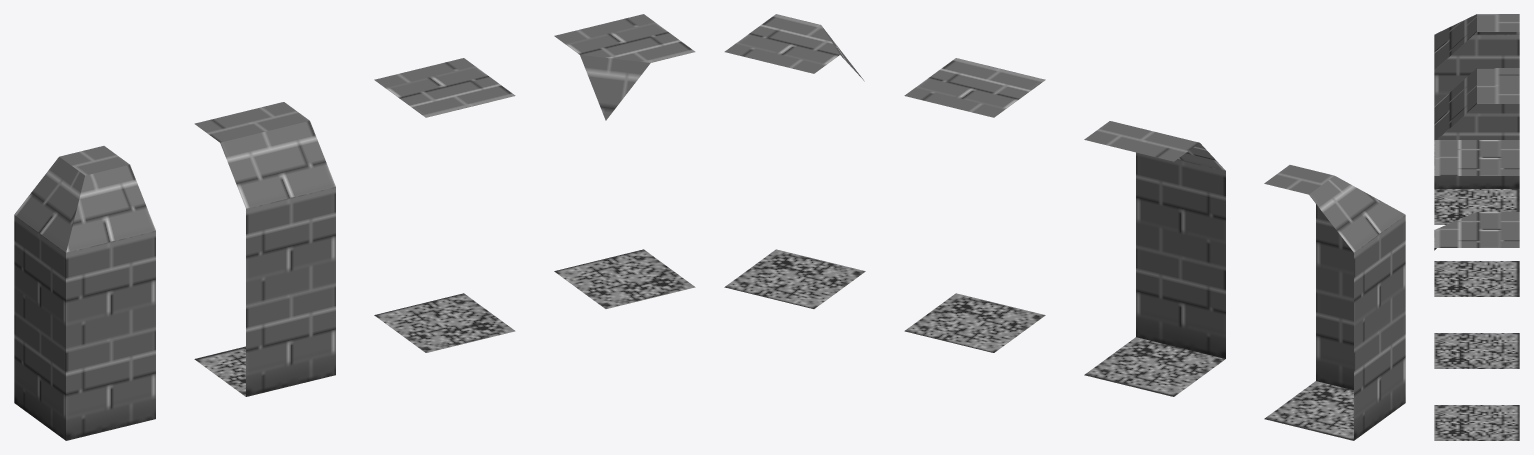
The model's file is dungeon_tiles_01.glb.
3 views of the same model, side by side, from view 1: azimuth 30°, elevation 25°; view 2: azimuth 150°, elevation 25°; view 3: azimuth 270°, elevation 25° (orthographic). The views are drawn at different scales.
Parts seen in each view (by area): view 1: corner_in-col, wall-col, corner_out-col, floor-col; view 2: wall-col, corner_in-col, floor-col, corner_out-col; view 3: corner_in-col, wall-col, floor-col, corner_out-col.
Boxes of the visible parts, box(x1,y1,x2,y2) form: corner_in-col: box(14, 146, 155, 440); wall-col: box(194, 102, 335, 396); corner_out-col: box(554, 14, 695, 308); floor-col: box(374, 58, 515, 352); wall-col: box(1084, 121, 1225, 396); corner_in-col: box(1264, 165, 1405, 440); floor-col: box(904, 58, 1045, 352); corner_out-col: box(724, 14, 865, 308); corner_in-col: box(1434, 14, 1519, 224); wall-col: box(1434, 68, 1519, 296); floor-col: box(1434, 140, 1519, 368); corner_out-col: box(1434, 212, 1519, 440).
Size of the model in its own units: 7 by 2.5 by 1.
Materials: 1 (1 with a texture image).
